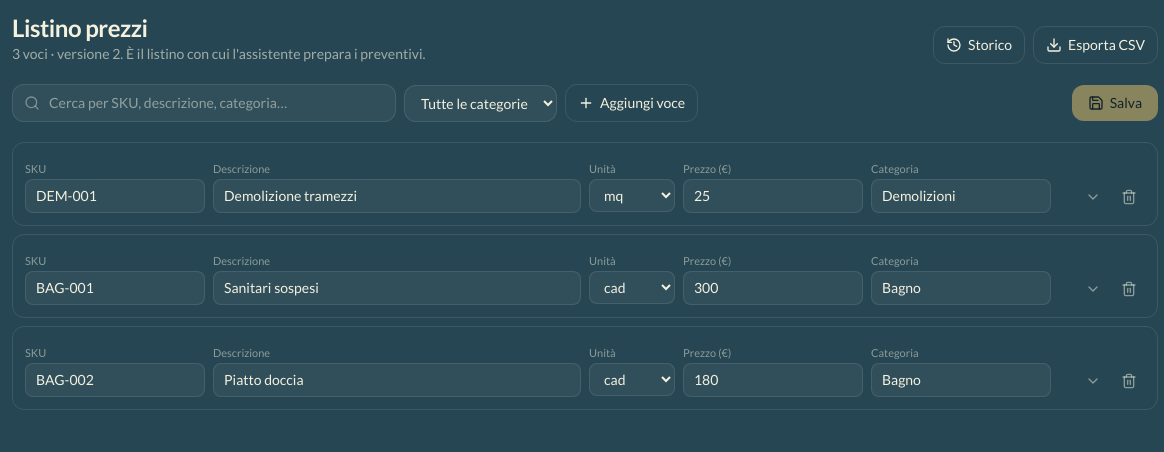
Scenario: PriceBookEditor › filters by search words and by category without losing the line positions
Type "piatto" into the field with test id "pb-search" at (204, 103), box [12,84,396,122]
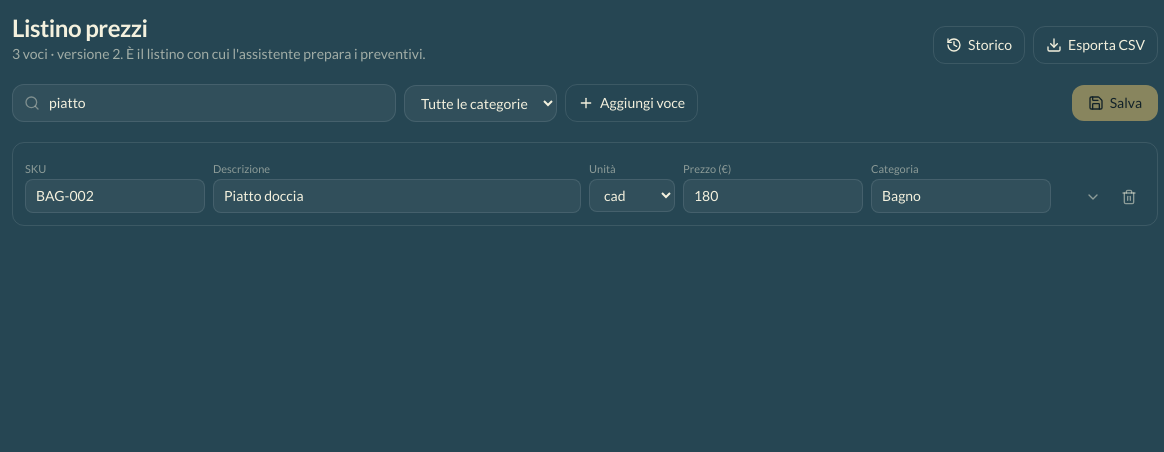
Now the number of list items with test id "pb-row" is 1, box [12,142,1158,226]
editing the filtered line edits the right line of the FULL list (index 2)
Replace the text in the number field with test id "pb-price-2" with "200" at (773, 196), box [683,179,863,213]
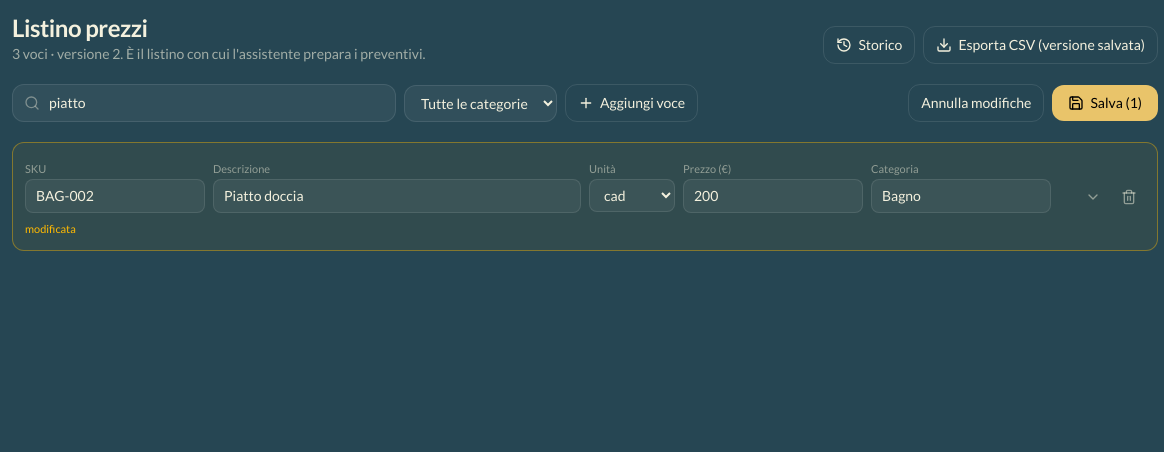
Clear the field with test id "pb-search" at (204, 103), box [12,84,396,122]
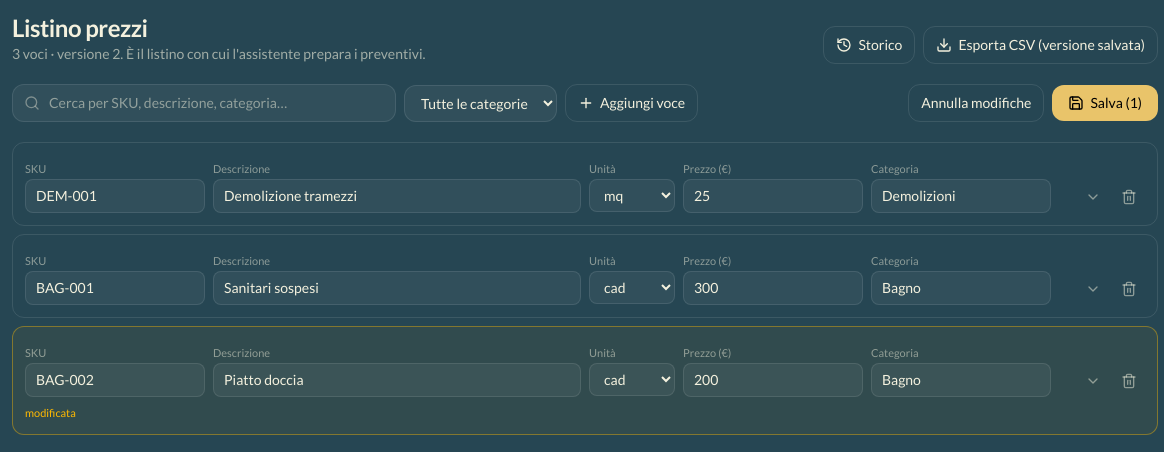
Now the number field with test id "pb-price-1" holds "300", box [683,271,863,305]
Select "Demolizioni" in the dropdown named "Filtra per categoria" at (480, 103), box [404,84,557,122]
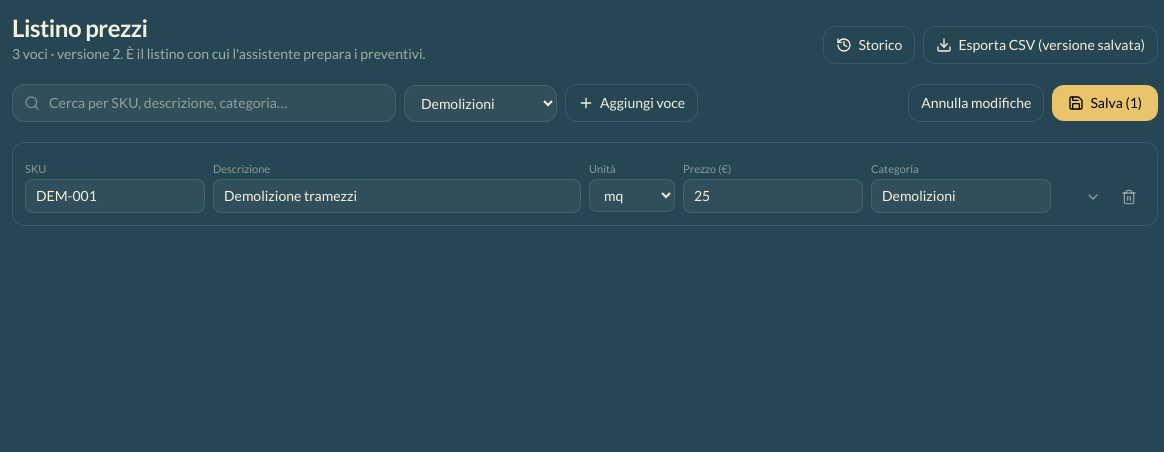
Now the number of list items with test id "pb-row" is 1, box [12,142,1158,226]
